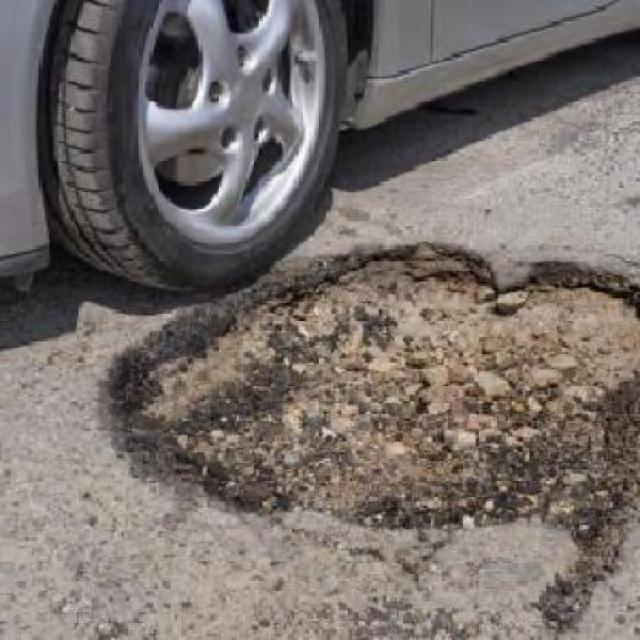pothole: (98, 239, 638, 538)
